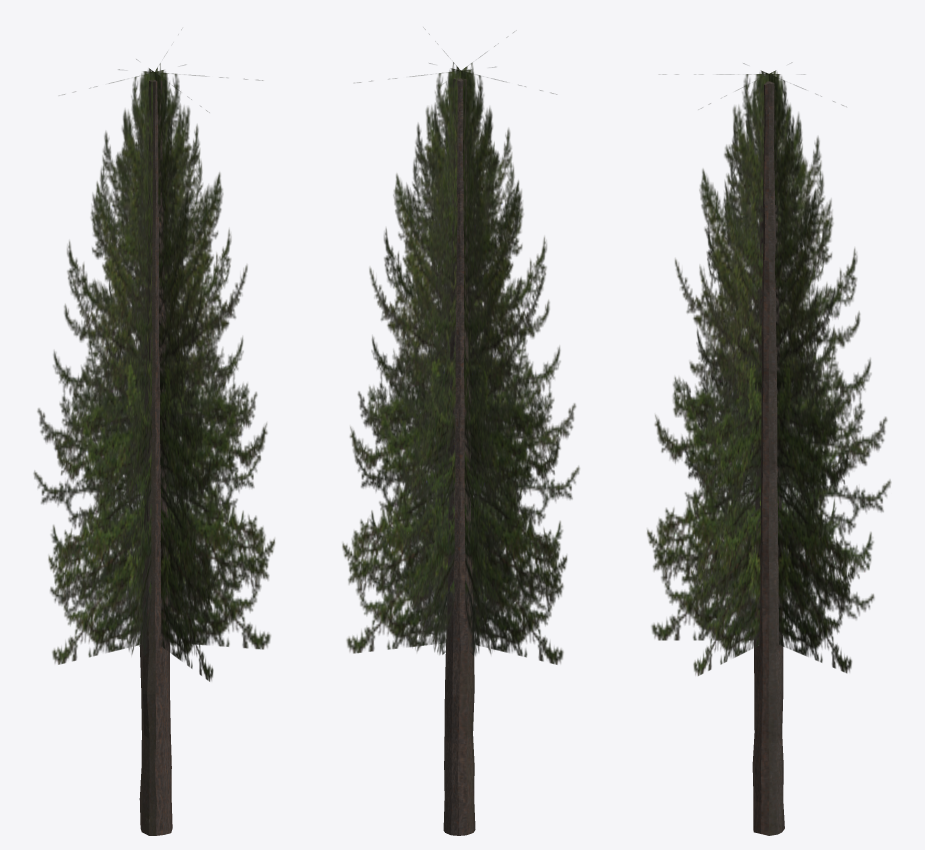
Rendered from Tree1.glb.
3 renders of one model, left to right at view 1: azimuth 30°, elevation 25°; view 2: azimuth 150°, elevation 25°; view 3: azimuth 270°, elevation 25°, orthographic.
Parts seen in each view (by area): view 1: Branches1, Base; view 2: Branches1, Base; view 3: Branches1, Base.
Boxes of the visible parts, x1=… form: Branches1: x1=33, y1=29, x2=274, y2=681; Base: x1=139, y1=79, x2=172, y2=835; Branches1: x1=342, y1=28, x2=579, y2=664; Base: x1=443, y1=78, x2=475, y2=835; Branches1: x1=647, y1=62, x2=890, y2=675; Base: x1=752, y1=81, x2=784, y2=835.
Size of the model in its own units: 6.72 by 19.77 by 6.72.
2 materials, 2 textured.
